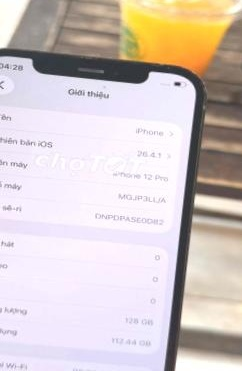screen_defect: (0, 46, 20, 98)
